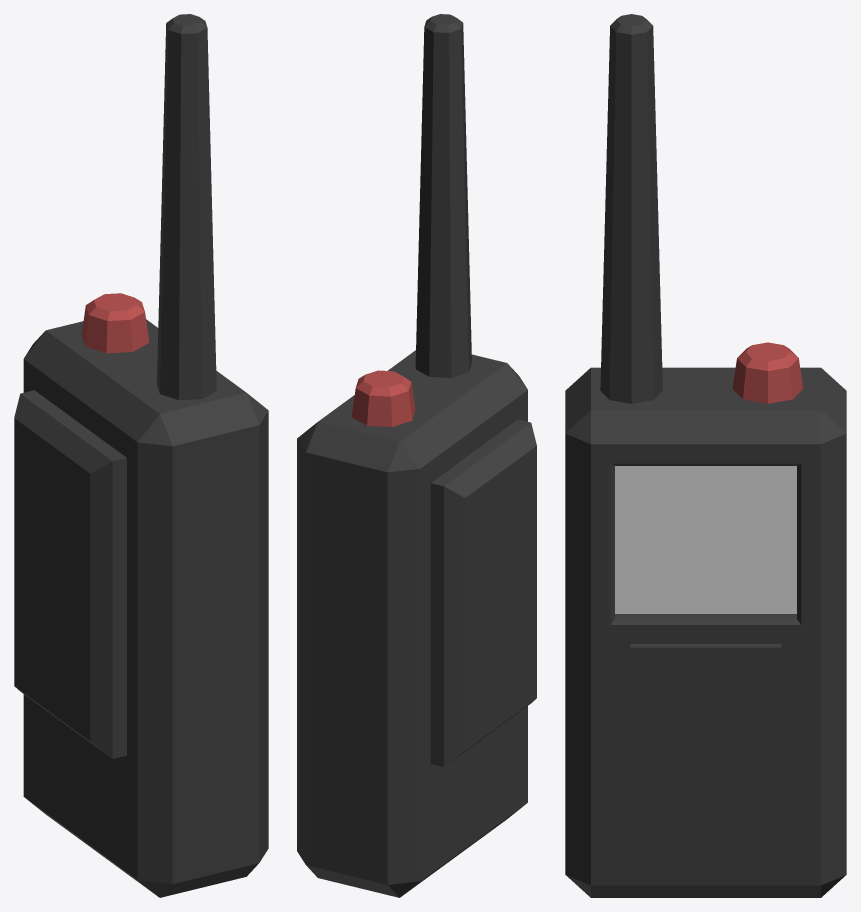
The model's file is Radio.fbx.
The picture shows the model from 3 angles, left to right: view 1: azimuth 30°, elevation 25°; view 2: azimuth 150°, elevation 25°; view 3: azimuth 270°, elevation 25°; orthographic projection. The views are drawn at different scales.
Visible parts, largest first — view 1: Radio; view 2: Radio; view 3: Radio.
Part boxes in pixels (left/top/right/bottom): Radio: left=14, top=14, right=268, bottom=897; Radio: left=297, top=14, right=536, bottom=897; Radio: left=565, top=14, right=846, bottom=897.
Bounding box in the file's own units: 9.53 × 46.42 × 13.8.
